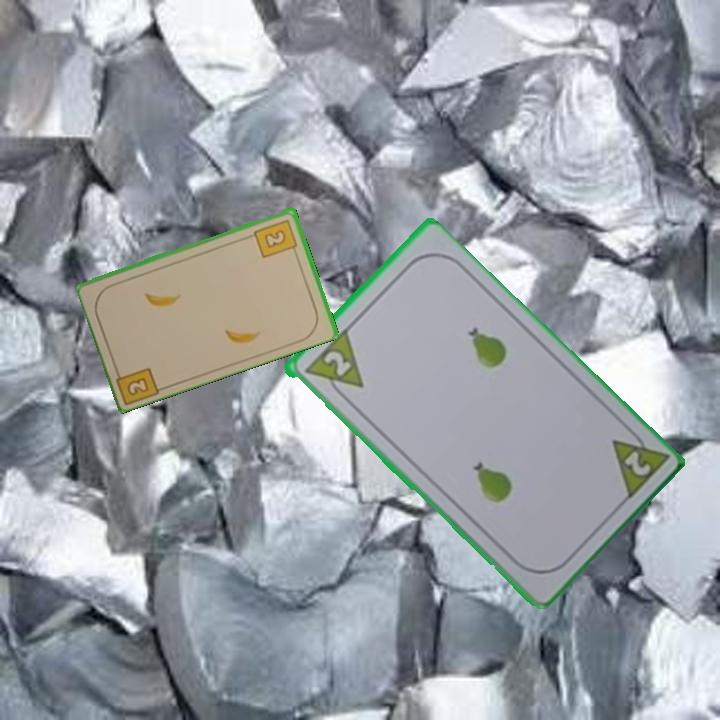2b: (111, 362, 163, 406), (251, 216, 300, 260)
2p: (319, 346, 354, 379), (620, 447, 653, 480)
